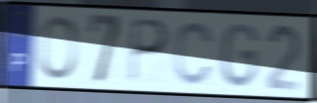2: (266, 22, 303, 93)
7: (87, 11, 122, 87)
C: (173, 20, 216, 88)
G: (219, 22, 260, 90)
O: (37, 14, 79, 82)
P: (128, 16, 171, 85)
